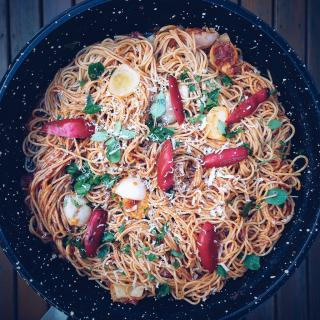Pasta: (37, 26, 296, 303)
